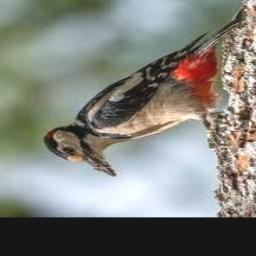Woodpecker: (44, 8, 247, 177)
